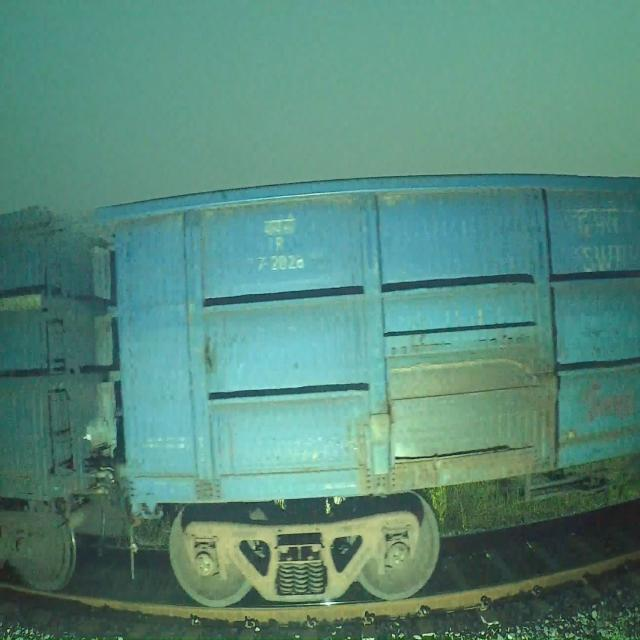WAgon-uic: (95, 170, 640, 607), (0, 205, 145, 591)
